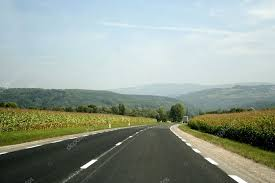strada: (1, 121, 238, 183)
